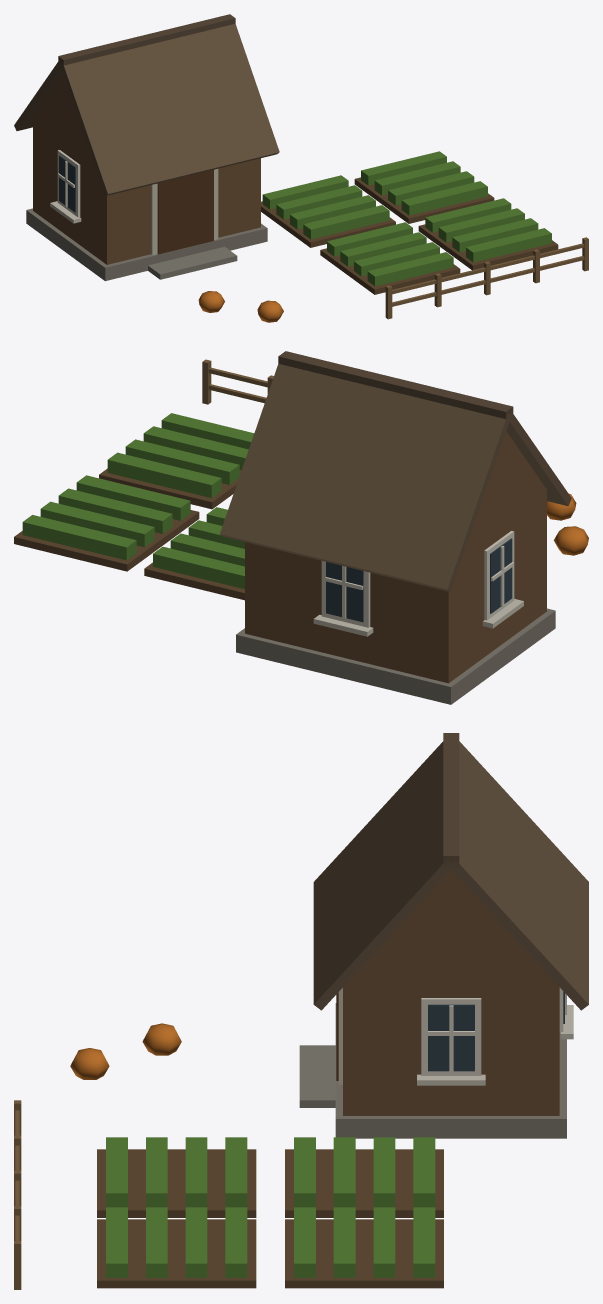
Rendered from procedural_vegetable_garden@3.glb.
3 views of the same model, one above another, from view 1: azimuth 30°, elevation 25°; view 2: azimuth 150°, elevation 25°; view 3: azimuth 270°, elevation 25° (orthographic). The views are drawn at different scales.
Parts seen in each view (by area): view 1: part_0; view 2: part_0; view 3: part_0.
Part boxes in pixels (left/top/right/bottom): part_0: left=14, top=14, right=588, bottom=322; part_0: left=14, top=351, right=588, bottom=704; part_0: left=14, top=733, right=588, bottom=1289.
Bounding box in the file's own units: 8.86 × 4.37 × 7.95.
